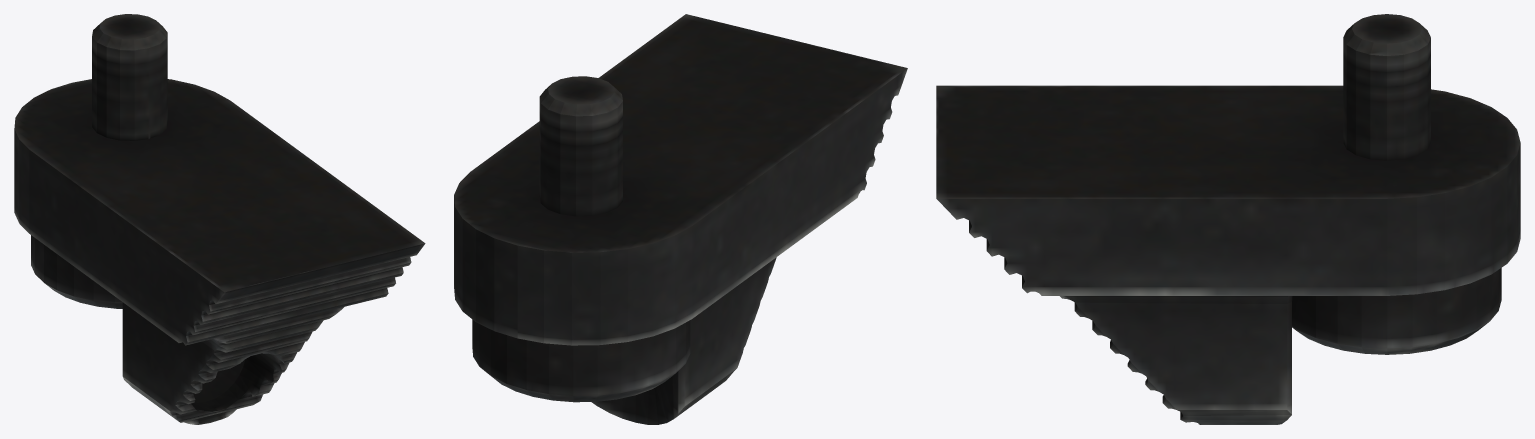
The picture shows the model from 3 angles, left to right: view 1: azimuth 30°, elevation 25°; view 2: azimuth 150°, elevation 25°; view 3: azimuth 270°, elevation 25°; orthographic projection. The views are drawn at different scales.
Visible parts, largest first — view 1: TW_628b9471078f94059a4b9bfb_PZ_Import; view 2: TW_628b9471078f94059a4b9bfb_PZ_Import; view 3: TW_628b9471078f94059a4b9bfb_PZ_Import.
Boxes of the visible parts, <box> form: TW_628b9471078f94059a4b9bfb_PZ_Import: <box>14,14,425,424</box>; TW_628b9471078f94059a4b9bfb_PZ_Import: <box>454,14,907,424</box>; TW_628b9471078f94059a4b9bfb_PZ_Import: <box>936,14,1520,424</box>.
Size of the model in its own units: 0.00578 by 0.0126 by 0.00926.
Materials: 1 (1 with a texture image).
